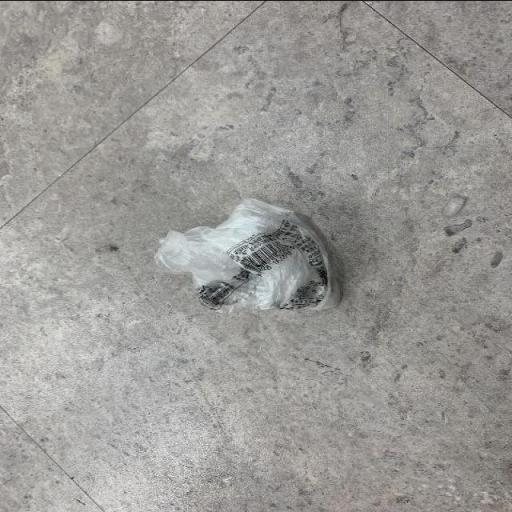plastic-bag: (148, 196, 347, 314)
